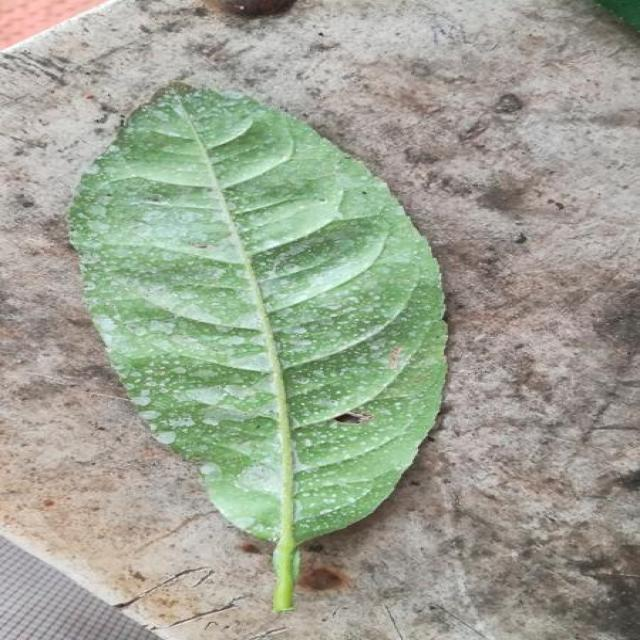badipala: (70, 85, 447, 610), (88, 159, 433, 494)
defectedbadipala: (116, 373, 226, 452)
